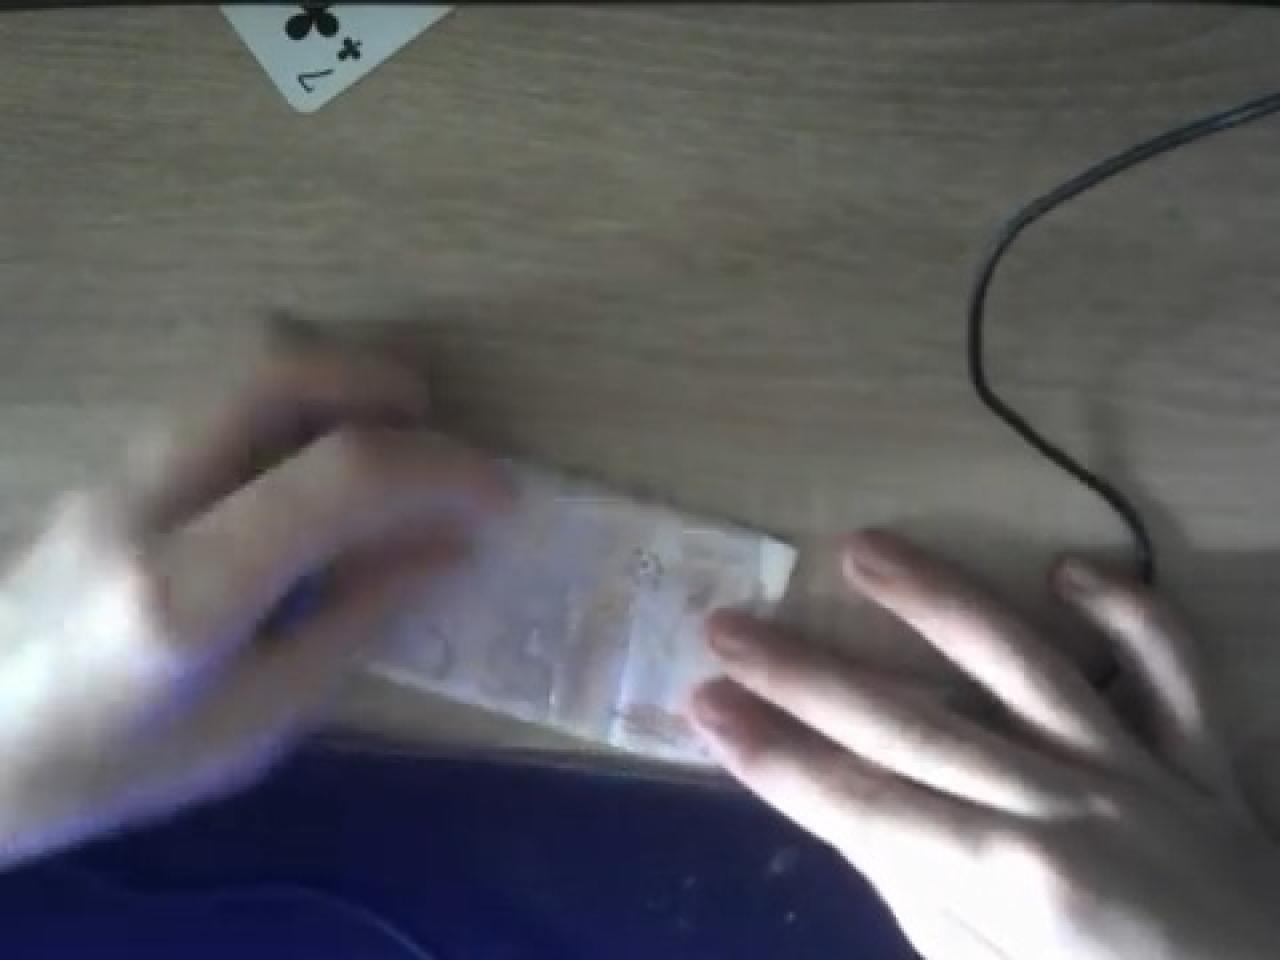5leva: (123, 402, 802, 768)
